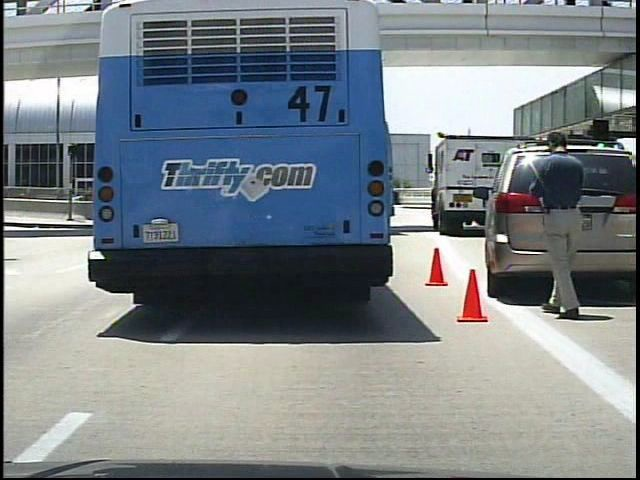person: (529, 122, 590, 319)
